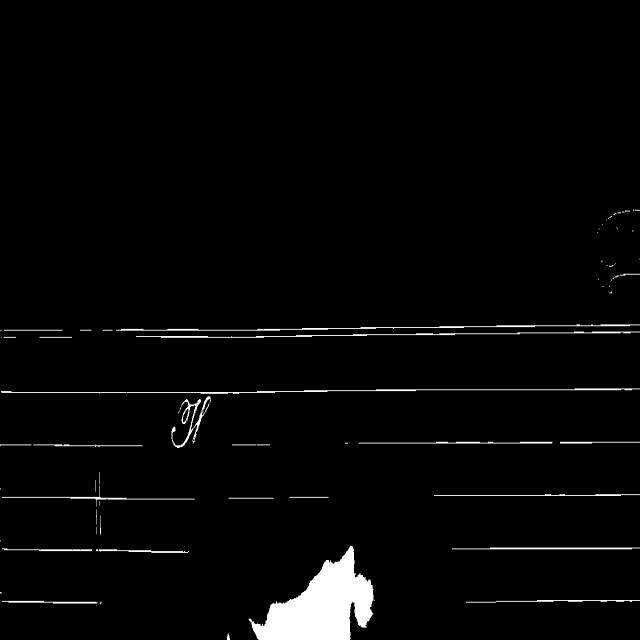hand: (250, 546, 374, 639), (226, 633, 230, 639)
noise: (102, 323, 640, 339), (0, 387, 640, 395), (0, 482, 196, 506), (0, 546, 189, 555), (434, 492, 640, 499), (451, 545, 640, 551), (357, 440, 640, 444), (466, 598, 640, 603), (0, 599, 102, 606), (0, 441, 142, 446), (94, 471, 102, 535), (34, 332, 72, 339), (0, 327, 62, 331), (0, 331, 23, 339), (228, 495, 274, 499), (288, 494, 328, 498), (232, 443, 270, 445), (80, 328, 92, 331), (345, 442, 348, 443)
not-noise: (171, 396, 210, 448)
page-marker: (596, 210, 640, 310)
